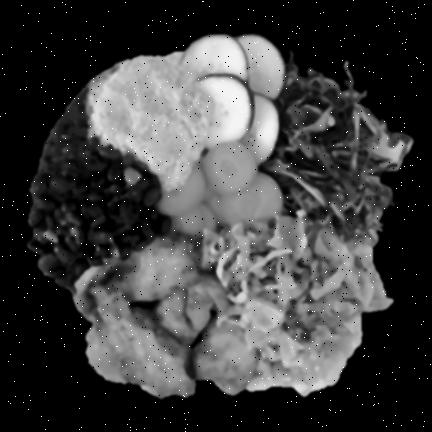beans: (28, 89, 169, 289)
carrot: (157, 143, 282, 237)
chicken: (75, 236, 259, 398)
cucumber: (181, 35, 284, 164)
salad: (203, 215, 392, 395)
